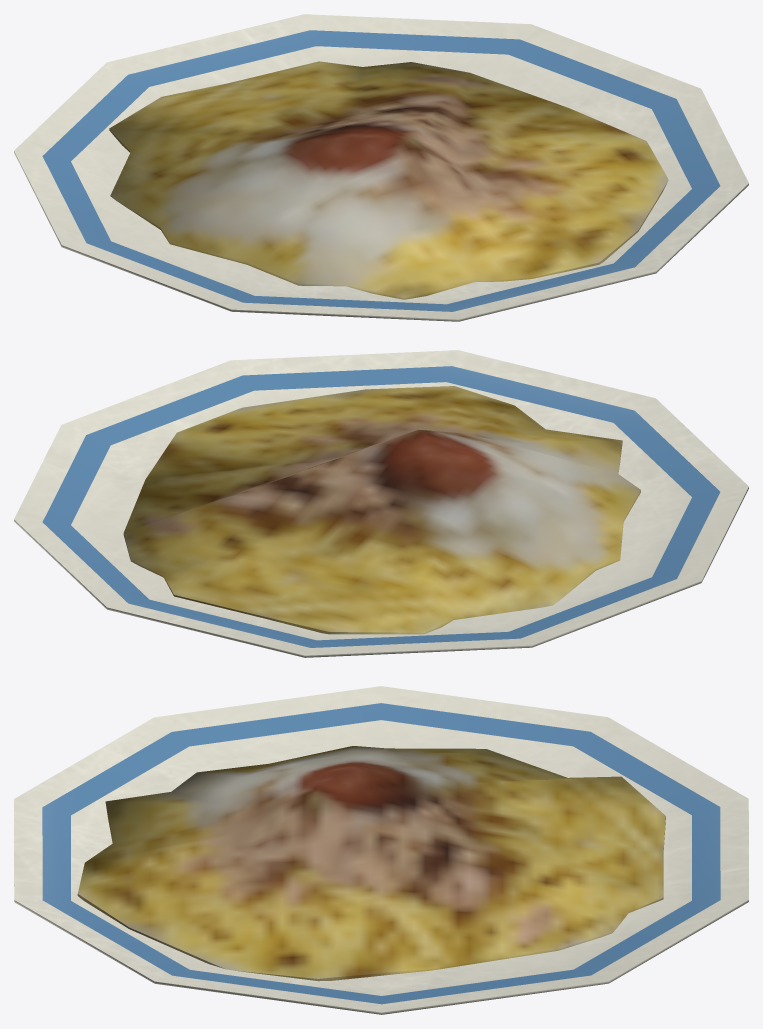
Rendered from dinerfoods04.fbx.
The picture shows the model from 3 angles, top to bottom: view 1: azimuth 30°, elevation 25°; view 2: azimuth 150°, elevation 25°; view 3: azimuth 270°, elevation 25°; orthographic projection. The views are drawn at different scales.
Visible parts, largest first — view 1: dinerfoods04; view 2: dinerfoods04; view 3: dinerfoods04.
Part boxes in pixels (bbox=[...]): dinerfoods04: bbox=[14, 14, 748, 321]; dinerfoods04: bbox=[14, 350, 748, 657]; dinerfoods04: bbox=[14, 686, 748, 1014].
Bounding box in the file's own units: 27.08 × 3.2 × 25.76.
